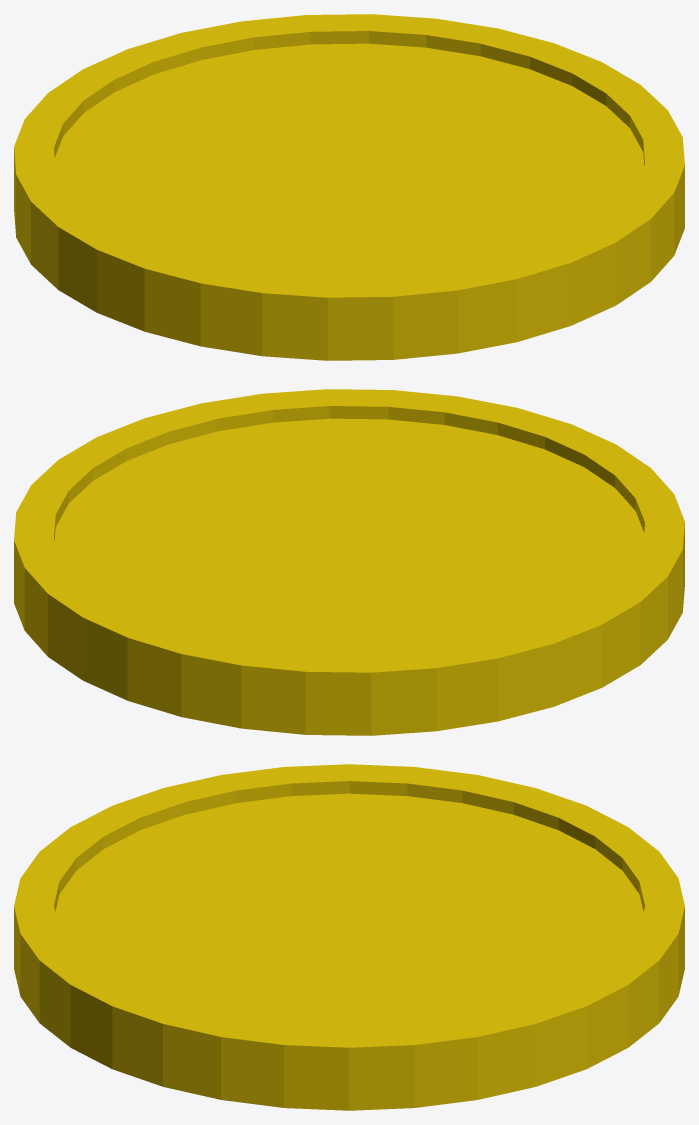
File: notex.fbx
3 renders of one model, top to bottom at view 1: azimuth 30°, elevation 25°; view 2: azimuth 150°, elevation 25°; view 3: azimuth 270°, elevation 25°, orthographic.
Parts seen in each view (by area): view 1: 円柱; view 2: 円柱; view 3: 円柱.
Boxes of the visible parts, left/top/right/bottom form: 円柱: left=14, top=14, right=684, bottom=360; 円柱: left=14, top=389, right=684, bottom=735; 円柱: left=14, top=764, right=684, bottom=1110.
Bounding box in the file's own units: 2 × 0.2071 × 2.
